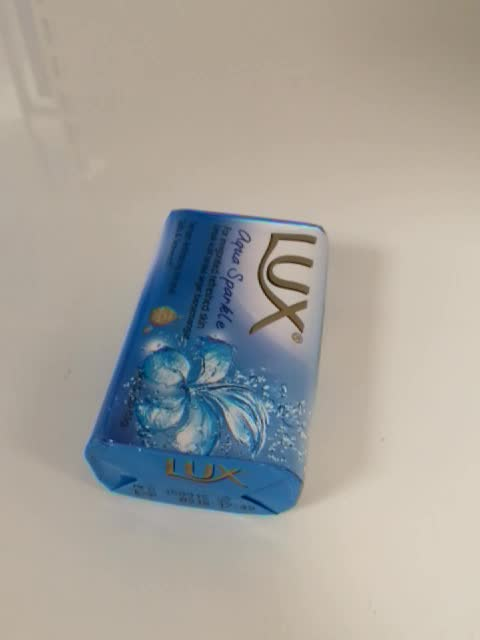soap: (81, 205, 330, 519)
